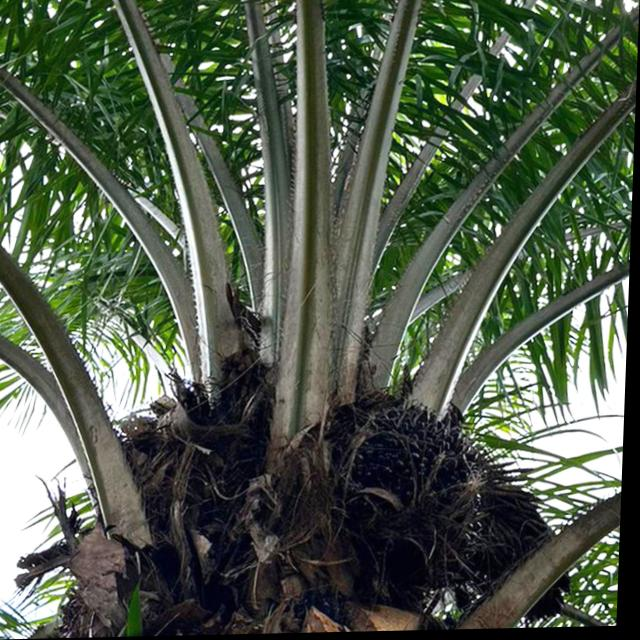almost: (323, 390, 486, 543)
